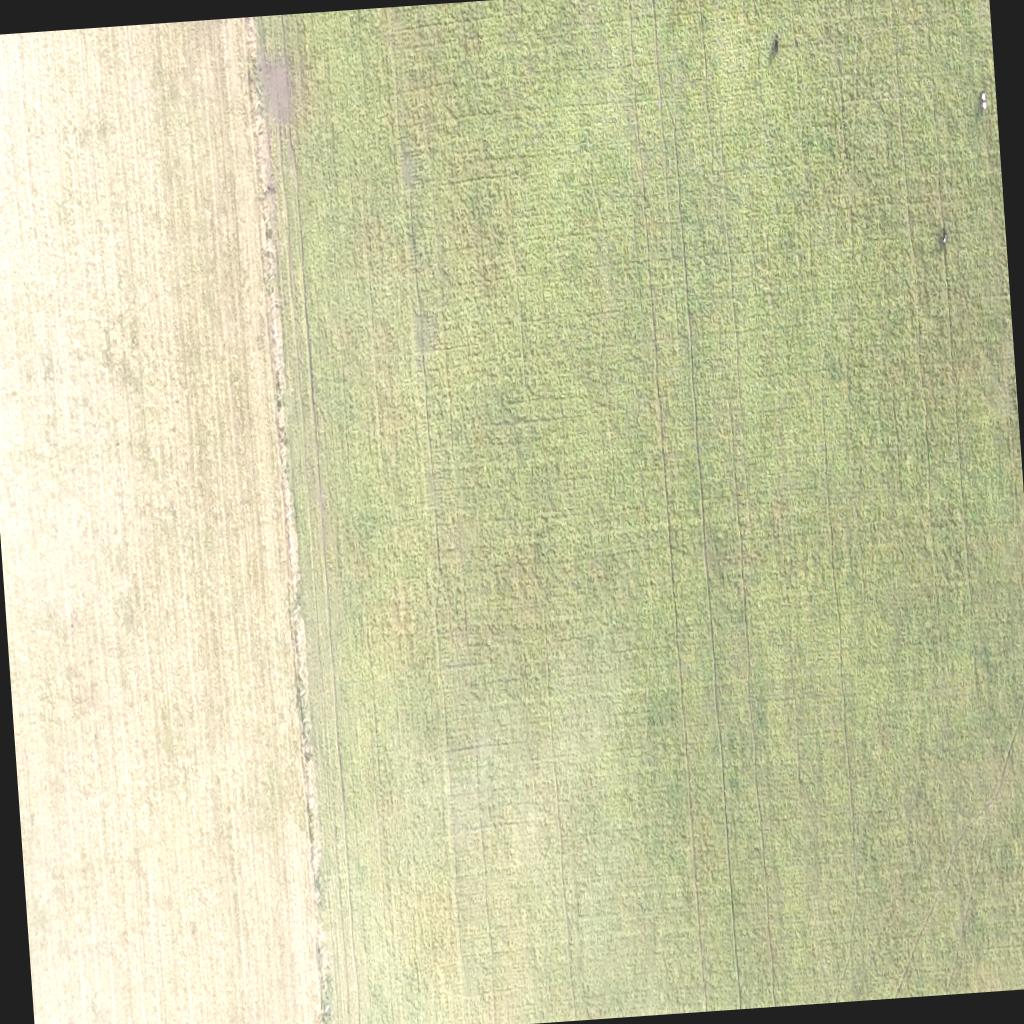cow: (980, 90, 988, 110), (773, 35, 780, 54), (942, 230, 948, 248)
